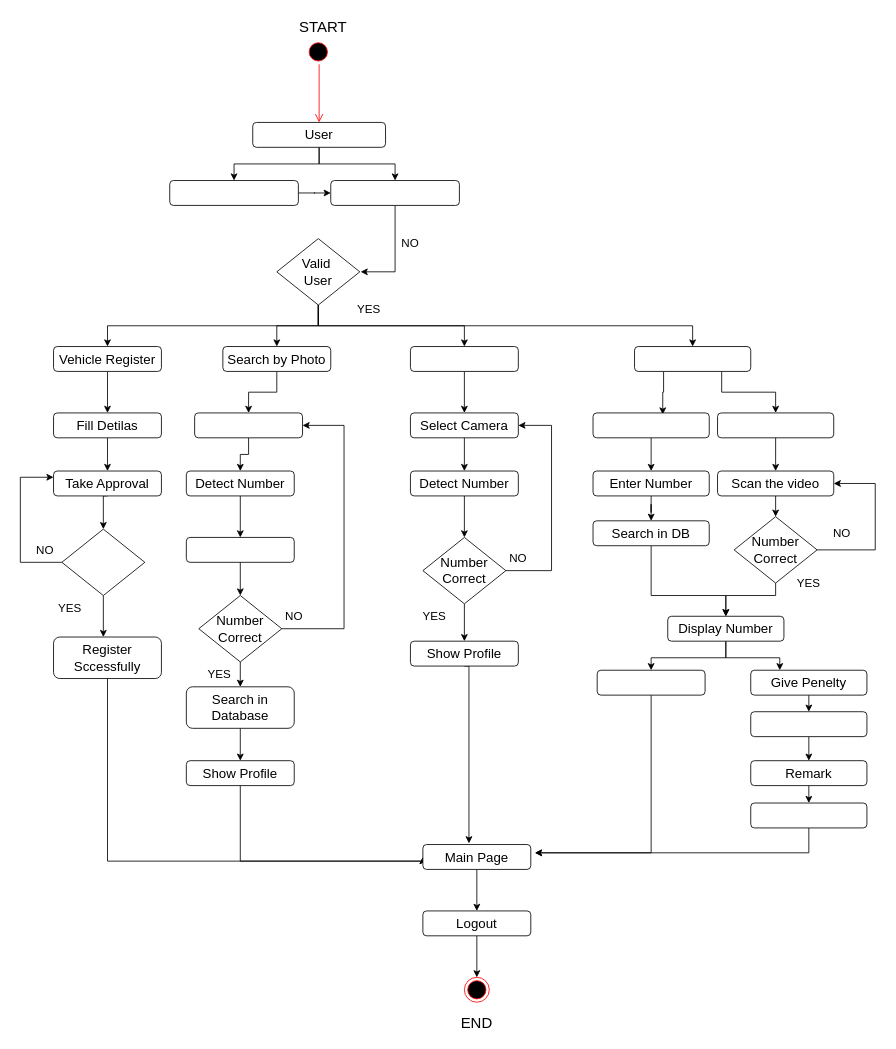
This 896x1049 diagram has some shape labels left out. The shapes that lost their labels are listed below. From the top down, each one's centre as x and y in pixels, then its label:
At pixel 233 192: "Regisration".
At pixel 394 192: "Login".
At pixel 464 358: "Search by Video".
At pixel 692 358: "Penelty".
At pixel 248 425: "Select Photo".
At pixel 650 425: "Manual".
At pixel 775 425: "Automatic".
At pixel 103 562: "Check Approval".
At pixel 240 549: "Display".
At pixel 650 682: "View Penelty".
At pixel 808 724: "Access Code".
At pixel 808 815: "Amount".
